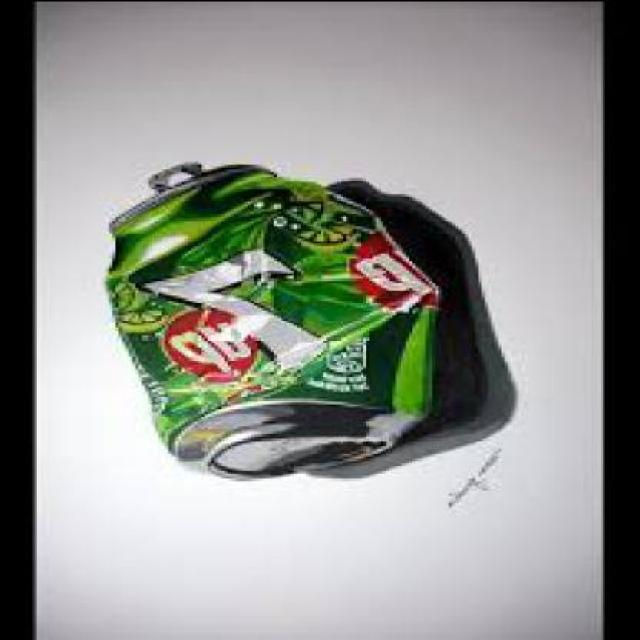METAL: (102, 155, 442, 477)
